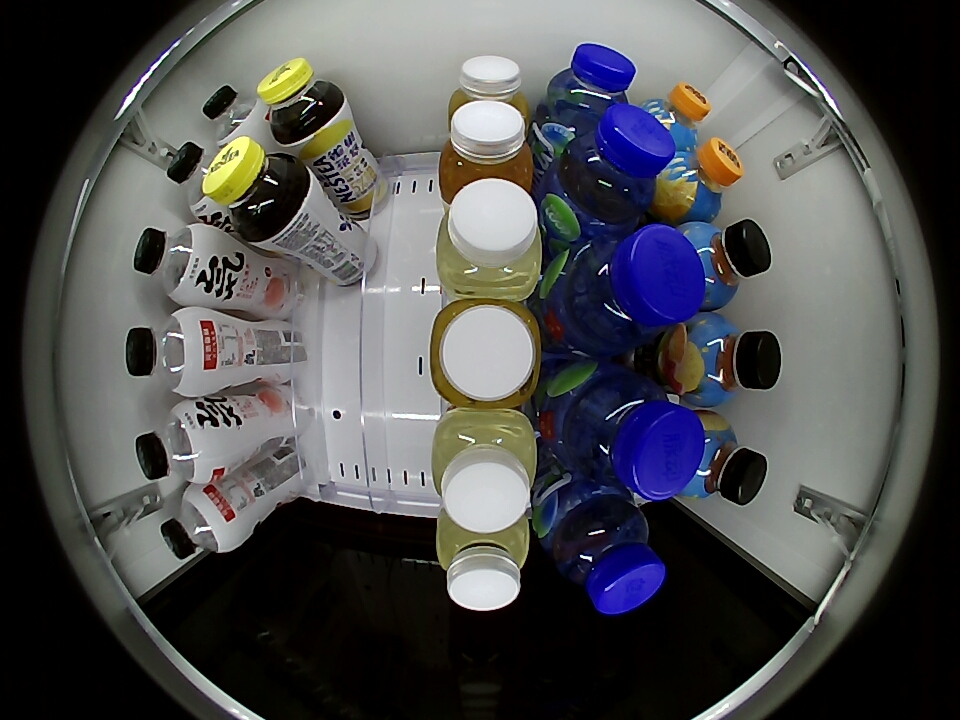chacui: (204, 137, 311, 243), (258, 57, 346, 147)
chapai: (438, 99, 535, 202)
chapai2: (431, 407, 539, 533), (437, 177, 543, 299), (428, 298, 542, 409), (436, 510, 531, 611), (449, 55, 529, 122)
guolicheng: (654, 138, 743, 224), (639, 82, 711, 155)
guolicheng2: (670, 313, 781, 405), (680, 408, 769, 507), (684, 217, 772, 307)
maidong: (557, 369, 704, 499), (558, 225, 704, 351), (547, 493, 666, 615), (556, 105, 673, 226), (545, 43, 638, 132)
yuanqishui: (124, 307, 218, 396), (135, 400, 225, 484), (133, 223, 222, 305), (160, 484, 243, 561), (166, 142, 226, 221), (202, 85, 269, 146)
